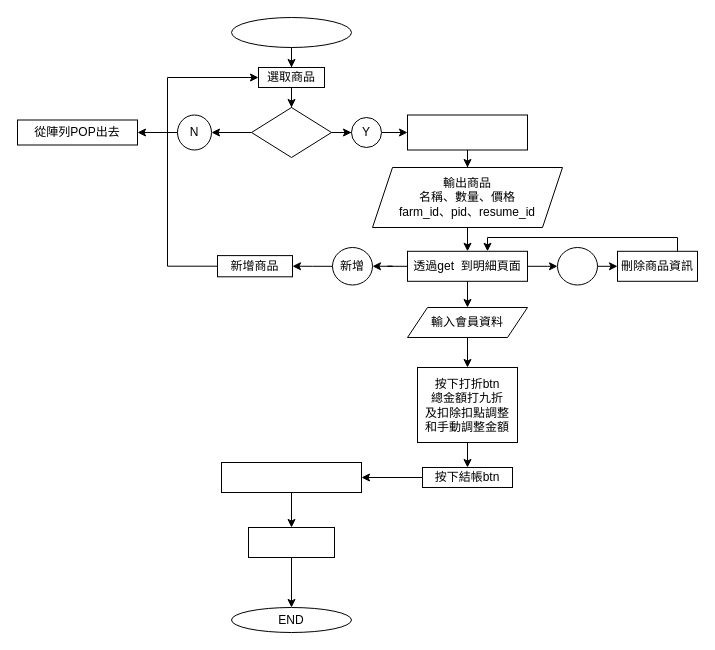
Some shapes in this 715 by 650 pixel diagram are drawn without their labels. Each missing label, with the centre of its shape:
"START" goes at point (291, 32).
"傳送會員資料至結帳頁面" goes at point (291, 477).
"刪除" goes at point (577, 265).
"存入Shop陣列 (購物車)" goes at point (467, 132).
"是否需要" goes at point (291, 132).
"更新資料庫" goes at point (291, 542).
